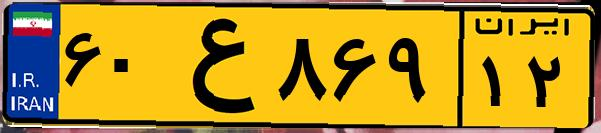0: (110, 28, 158, 98)
1: (475, 38, 525, 113)
2: (525, 38, 570, 115)
6: (330, 28, 385, 110), (57, 26, 110, 100)
8: (270, 28, 330, 110)
9: (385, 28, 445, 110)
ع: (158, 12, 270, 120)
